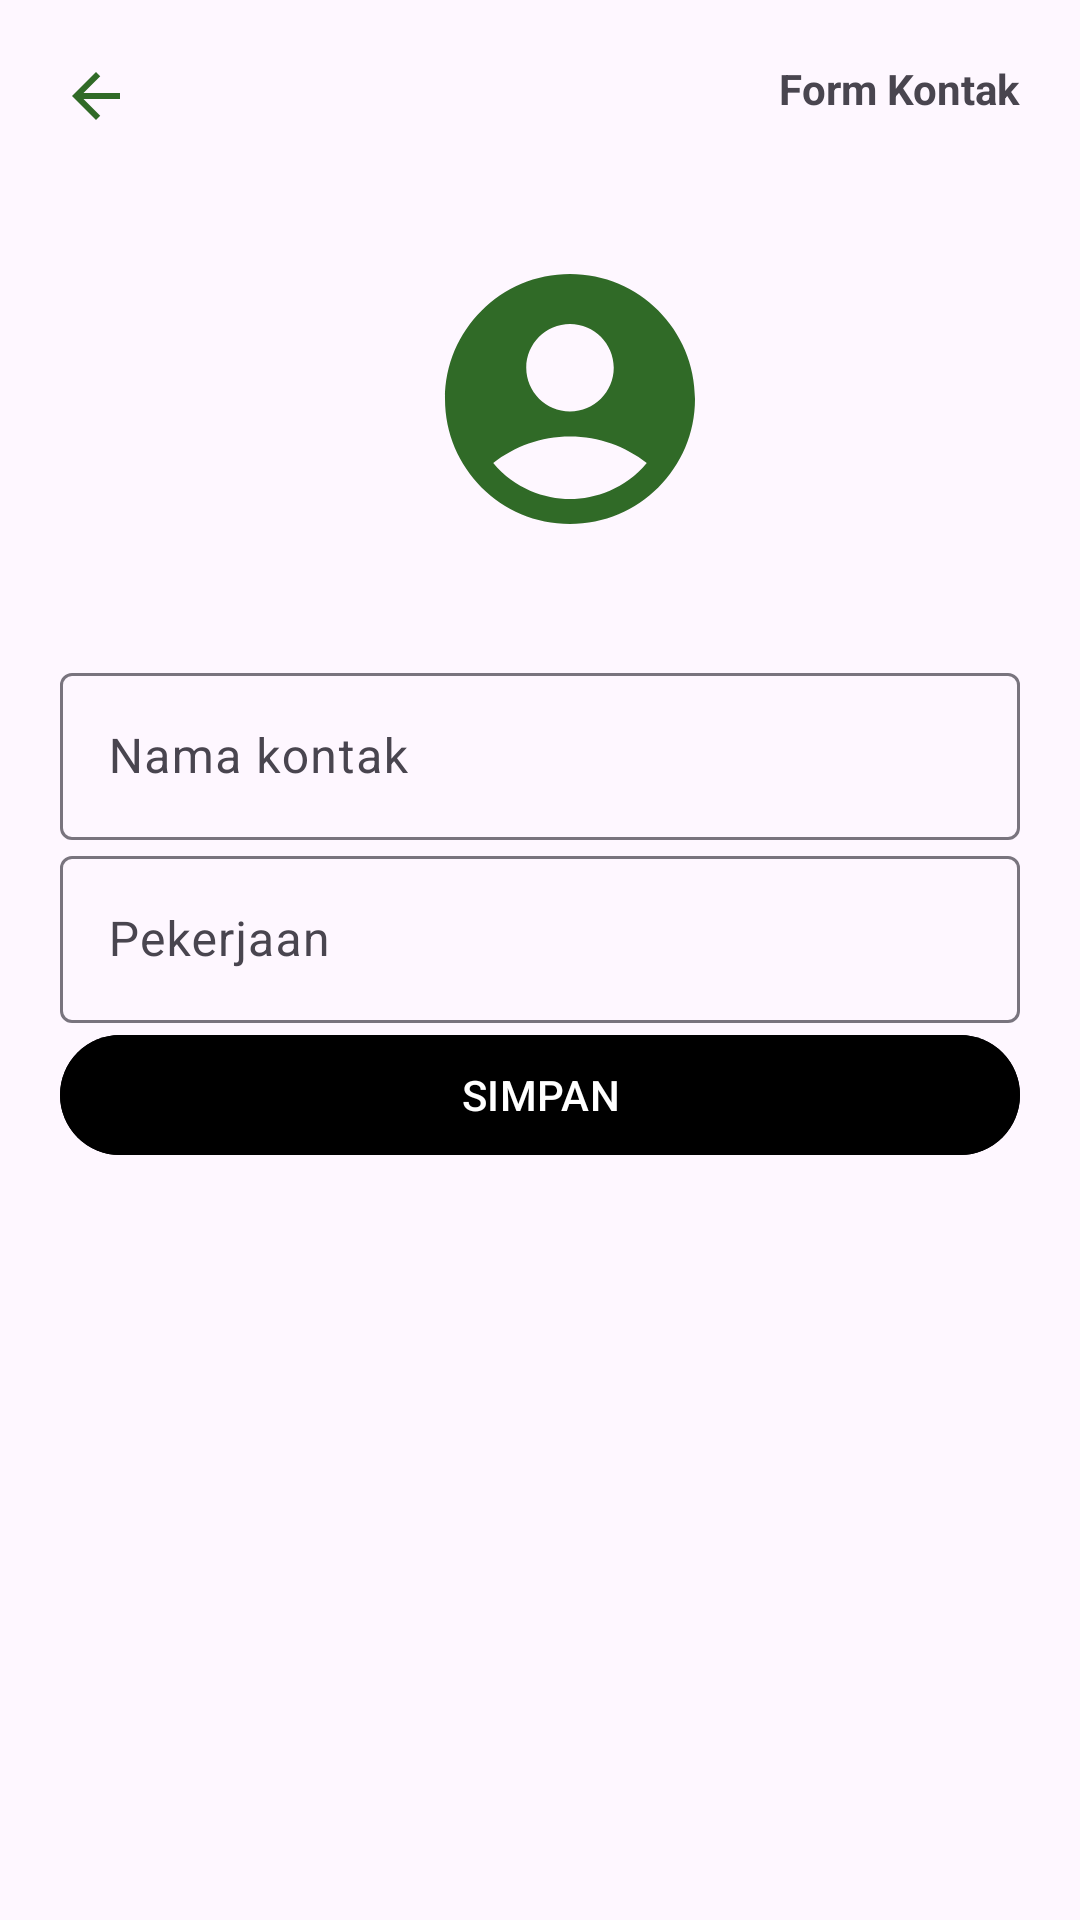

Locate icon controls on the screen. Image size 1080x1920, boxes as (x1, y1, x2, y2).
account circle contact: (445, 274, 695, 524)
back menu: (72, 72, 120, 120)
